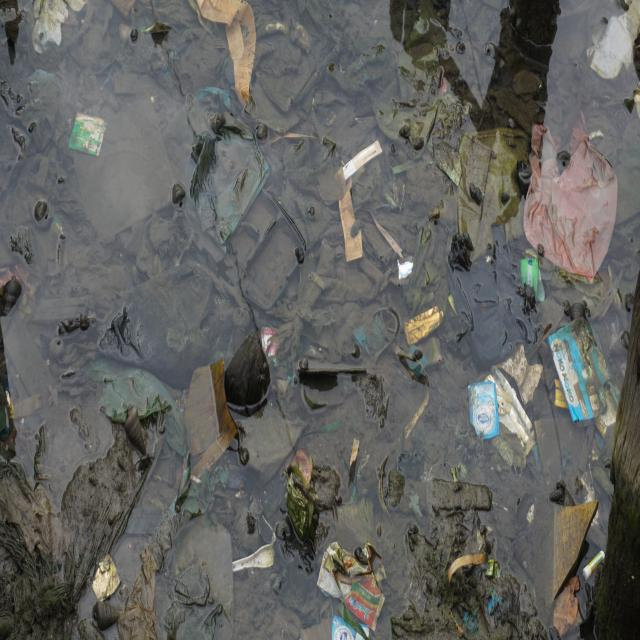Bungkus Makanan: (314, 533, 389, 635)
Bungkus Minuman: (465, 375, 502, 449), (67, 108, 109, 159)
Kantong Plastik: (528, 115, 620, 288), (443, 223, 544, 374), (187, 102, 273, 246)
